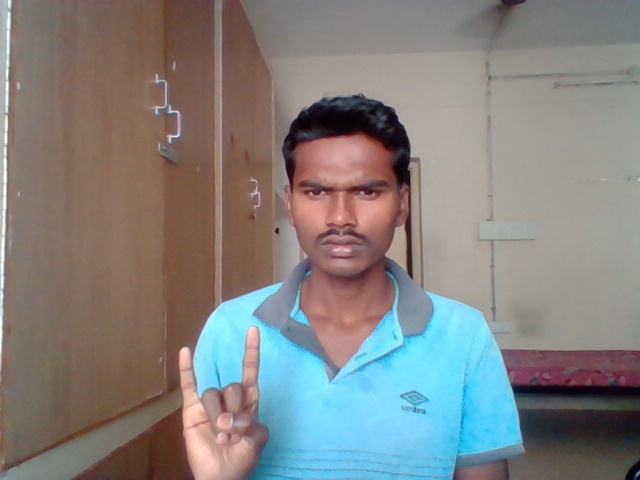I Love You: (173, 323, 275, 479)
